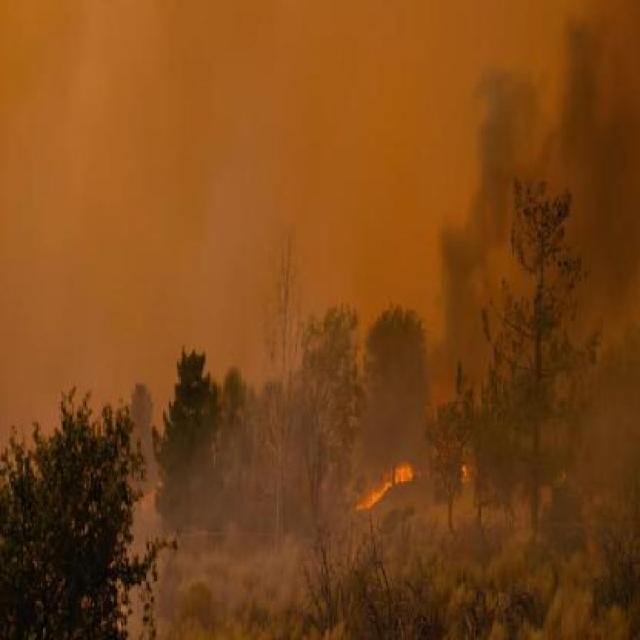Fire: (353, 458, 420, 520), (460, 460, 471, 485)
